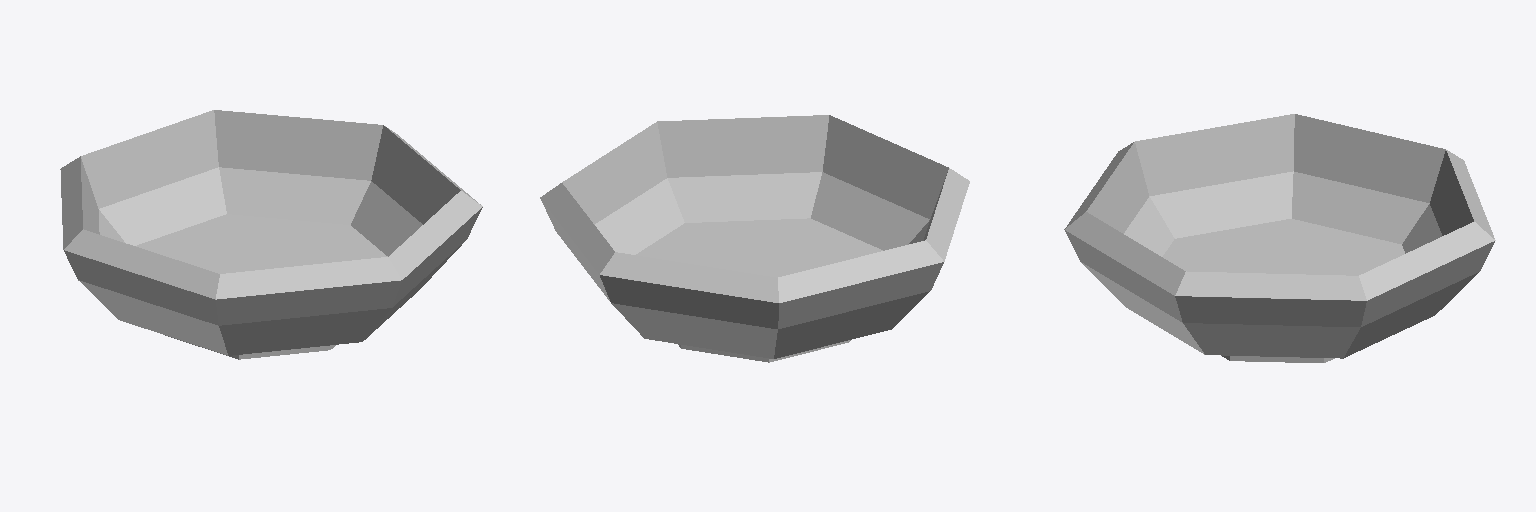
The model's file is woodBowl.obj.
The picture shows the model from 3 angles: view 1: azimuth 30°, elevation 25°; view 2: azimuth 150°, elevation 25°; view 3: azimuth 270°, elevation 25°; orthographic projection.
Visible parts, largest first — view 1: group[number redacted]; view 2: group[number redacted]; view 3: group[number redacted].
Boxes of the visible parts, x1,y1,x2,y2 form: group[number redacted]: [60, 110, 482, 359]; group[number redacted]: [540, 115, 969, 362]; group[number redacted]: [1064, 114, 1495, 362].
Size of the model in its own units: 0.2353 by 0.075 by 0.2381.